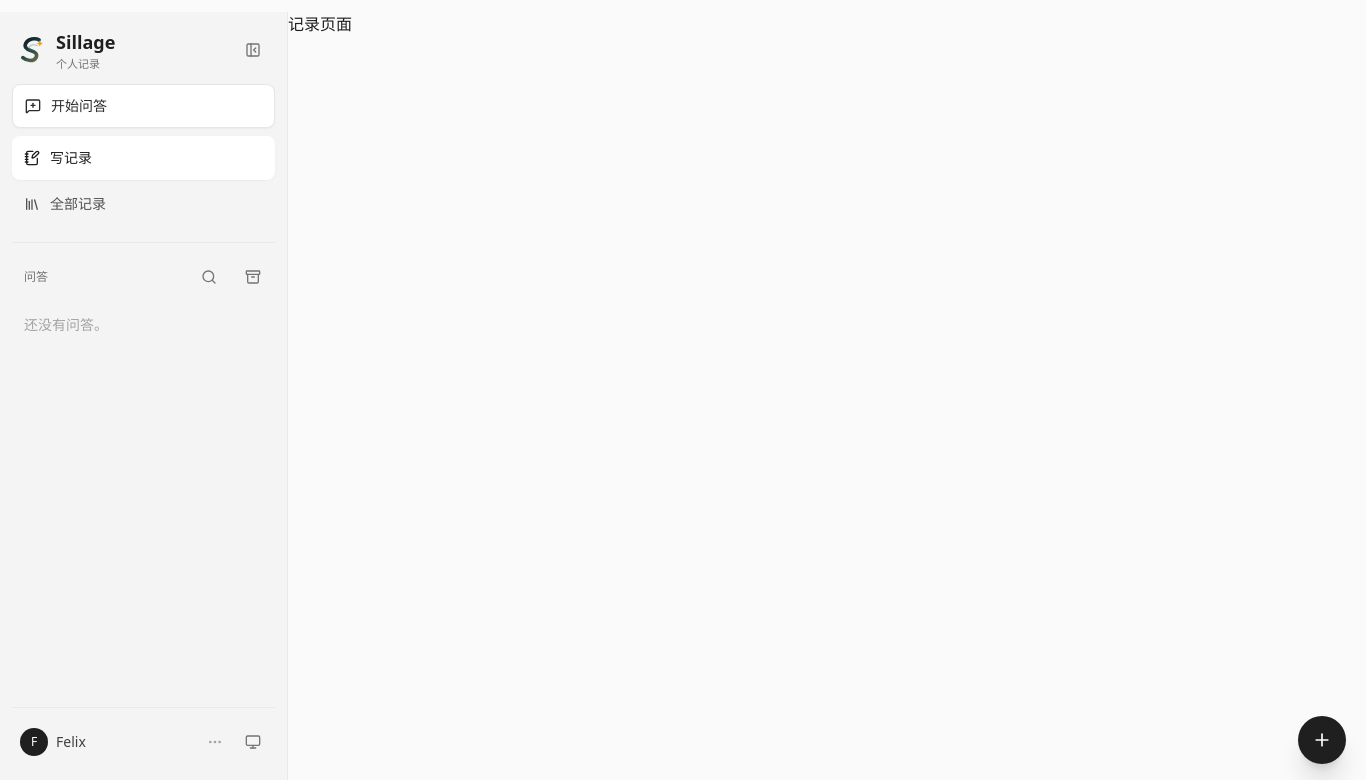
Test: AppShell Ask navigation › debounces server search and ignores an aborted older response
Step 1. Click the button named "搜索问答" → {"x": 209, "y": 277}, box 187,255 -> 231,299
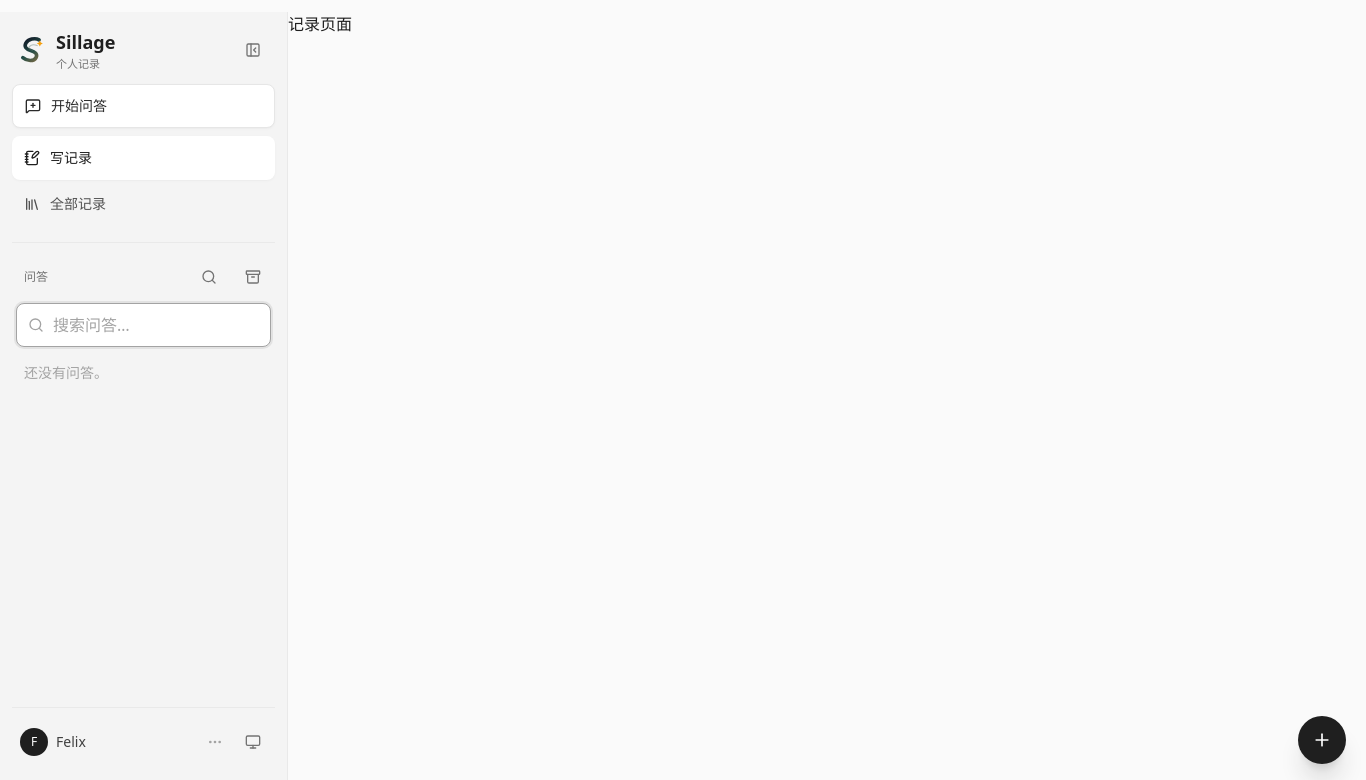
Step 2. Type "第一" into the search field labelled "搜索问答" → {"x": 144, "y": 325}, box 16,303 -> 271,347
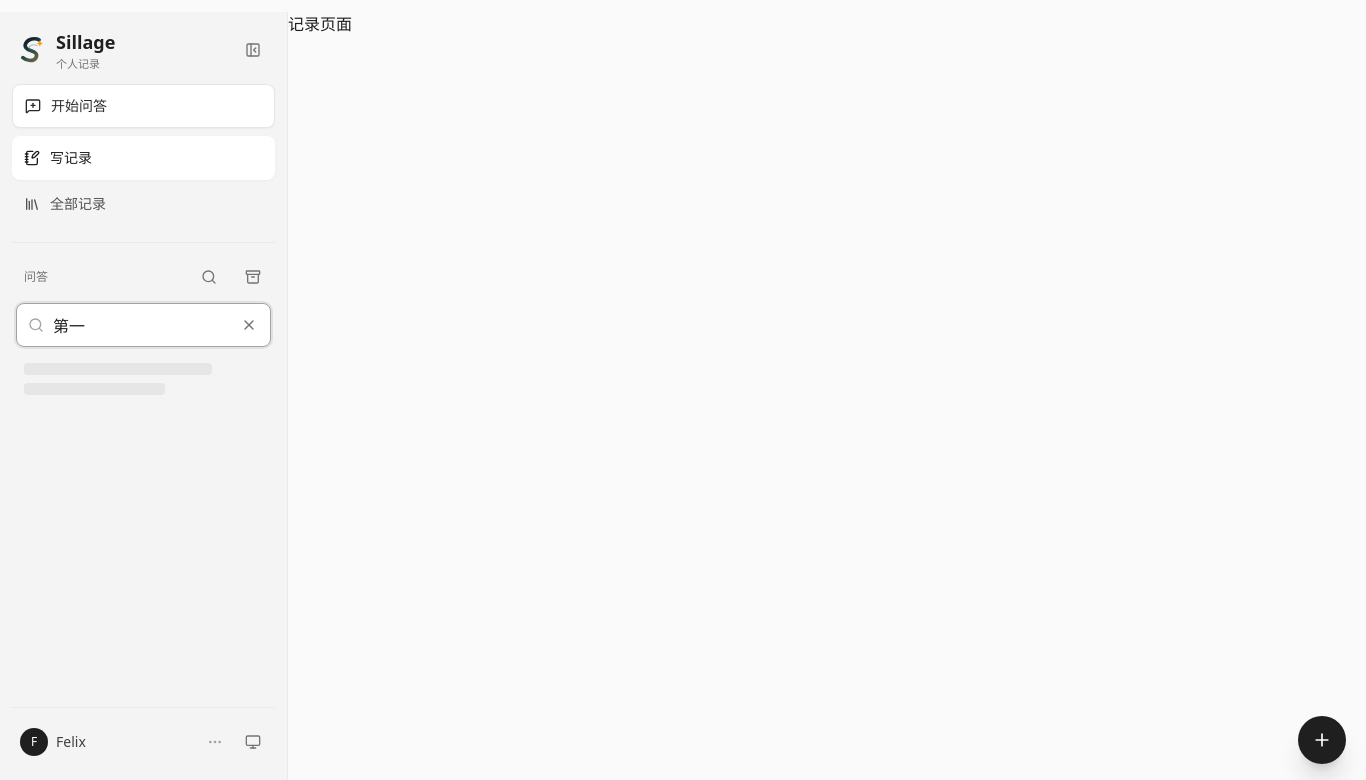
Step 3. Replace the text in the search field named "搜索问答" with "第二" → {"x": 144, "y": 325}, box 16,303 -> 271,347
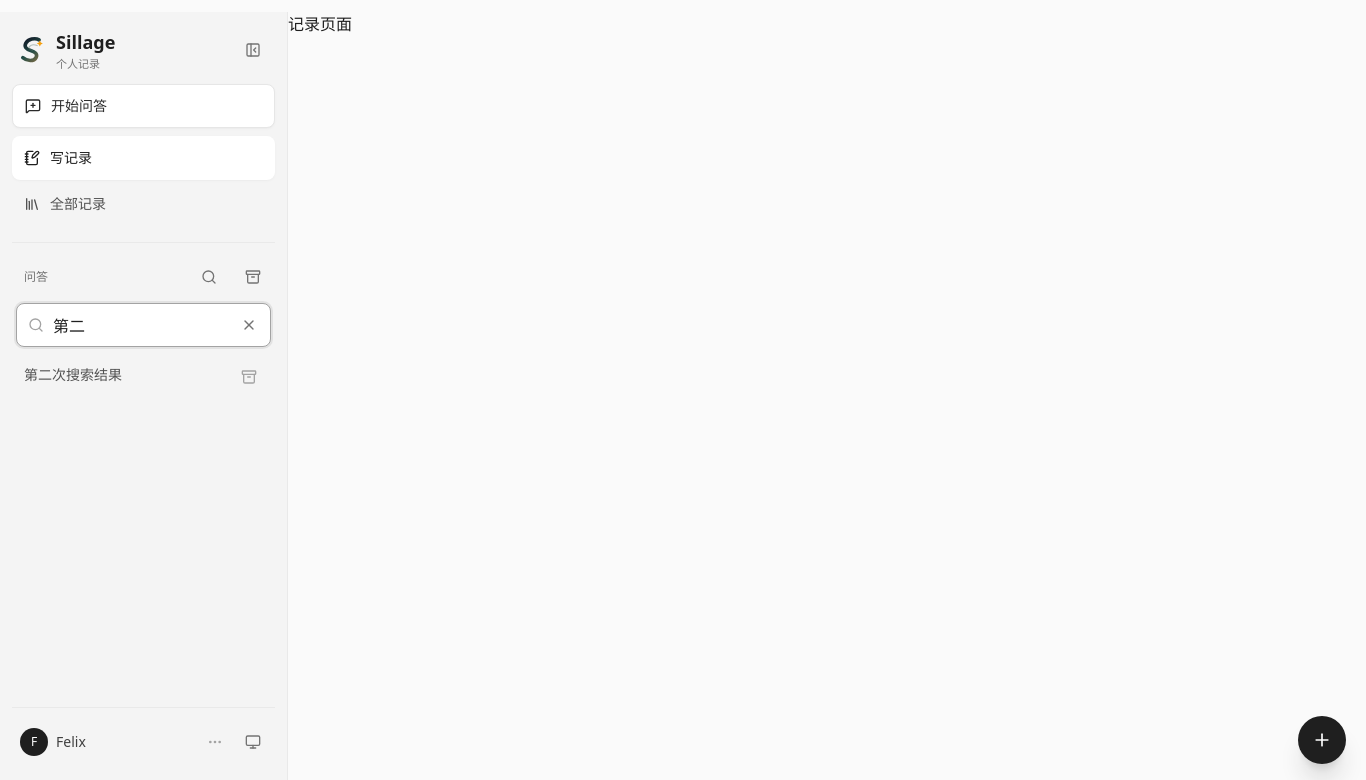
Expected: the link "第二次搜索结果" is shown, 24,365 -> 122,384
